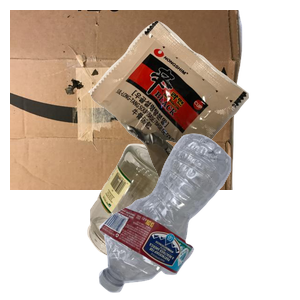cardboard: (10, 10, 245, 190)
glass: (85, 141, 275, 300)
plastic: (96, 131, 300, 300)
trash: (86, 18, 300, 194)
